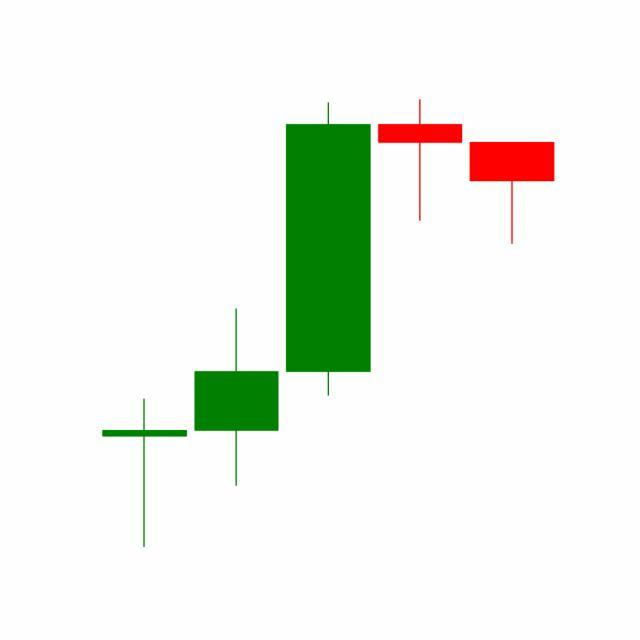Spinning Top: (374, 98, 468, 224)
